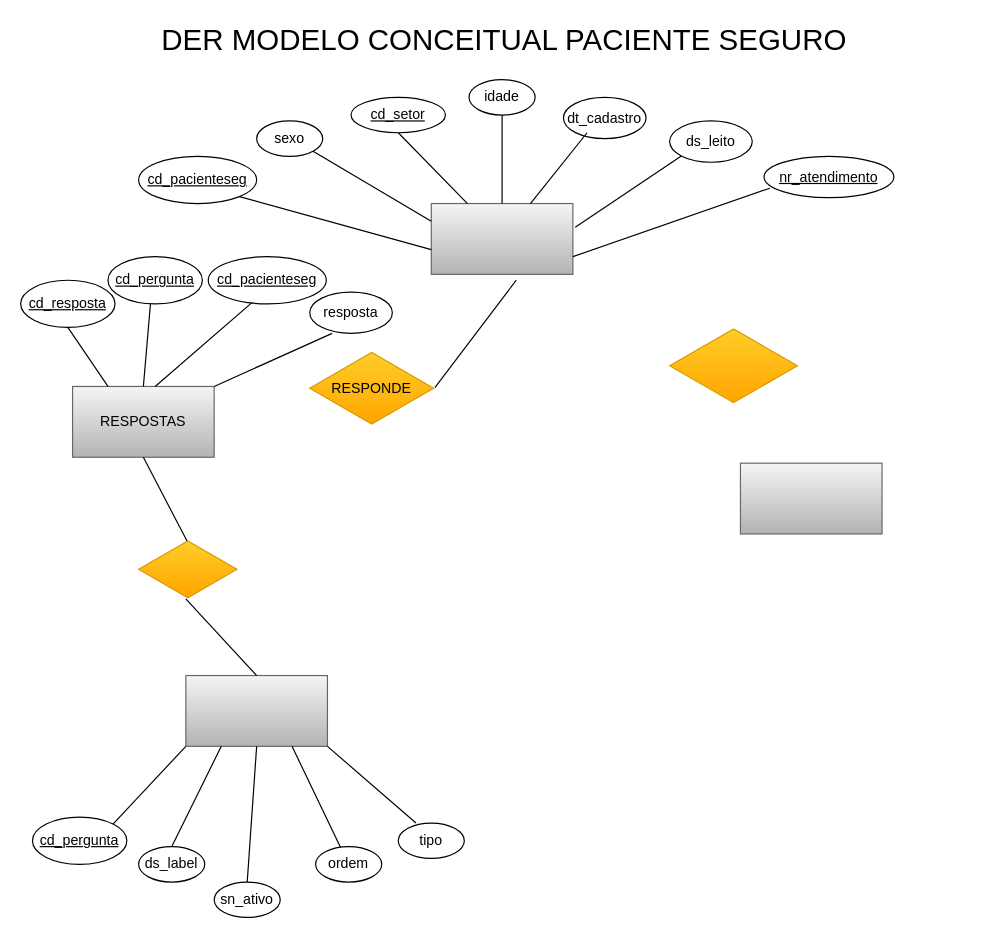
Some shapes in this 997 by 938 pixel diagram are drawn without their labels. Here are the shapes that lost their labels. From the top down, the box of each, then its label:
(430, 202, 573, 274): PACIENTESEG
(668, 326, 797, 404): DÁ UMA SUGESTÃO
(739, 462, 882, 534): SUGESTAO DE MELHORIA
(137, 539, 237, 599): TEM
(185, 674, 327, 746): PERGUNSTAS
